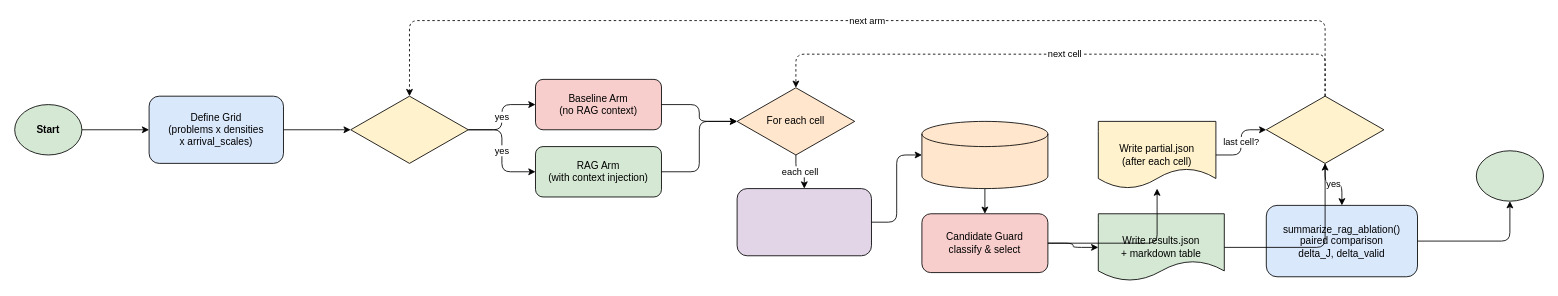
The diagram is 1558 pixels wide and 296 high, and some of its shapes have lost their labels. The centre of each missing label's shape, as x and y in pixels:
"Ablation Pair?" belongs at point 409,129.
"Both arms done?" belongs at point 1324,129.
"Done" belongs at point 1509,175.
"run_v0_eoh() EOH Evolution pop=8, gen=1..N" belongs at point 804,222.
"SA Evaluation (seed_J, seed_Res)" belongs at point 984,155.
